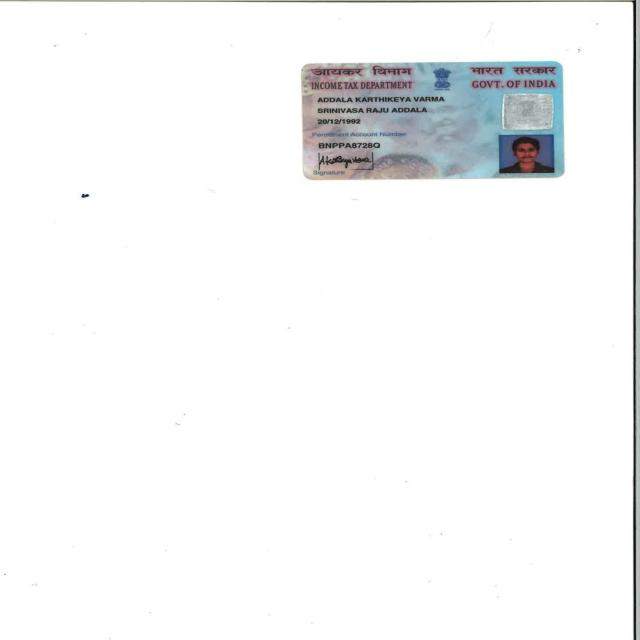pan_card: (304, 61, 562, 180)
